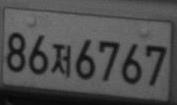6: (120, 43, 142, 84), (75, 38, 96, 80), (28, 34, 49, 75)
7: (145, 44, 167, 86), (98, 39, 119, 81)
8: (6, 31, 26, 72)
저: (51, 43, 71, 77)
